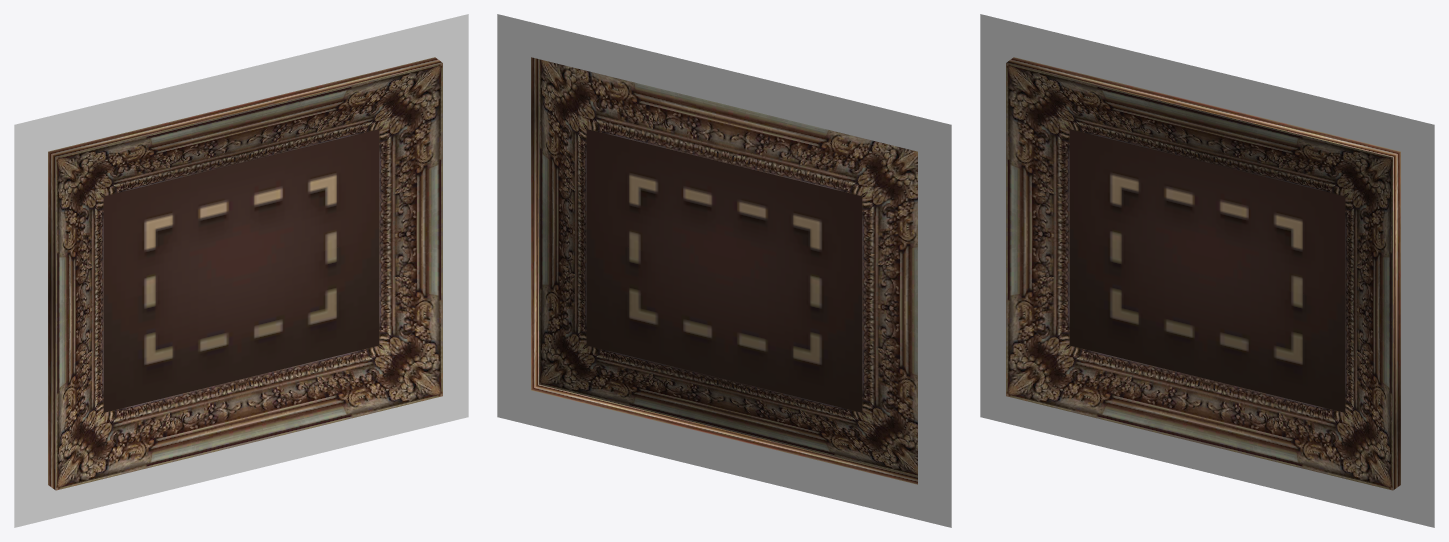
Rendered from Frame_11_Small.dae.
3 renders of one model, left to right at view 1: azimuth 30°, elevation 25°; view 2: azimuth 150°, elevation 25°; view 3: azimuth 330°, elevation 25°, orthographic.
Parts seen in each view (by area): view 1: Frame_11_Small (×3); view 2: Frame_11_Small (×3); view 3: Frame_11_Small (×3).
Boxes of the visible parts, x1,y1,x2,y2 form: Frame_11_Small (×3): (14, 14, 468, 527); Frame_11_Small (×3): (497, 14, 951, 527); Frame_11_Small (×3): (980, 14, 1434, 527).
Size of the model in its own units: 272 by 231 by 8.27.
Materials: 3 (3 with a texture image).
